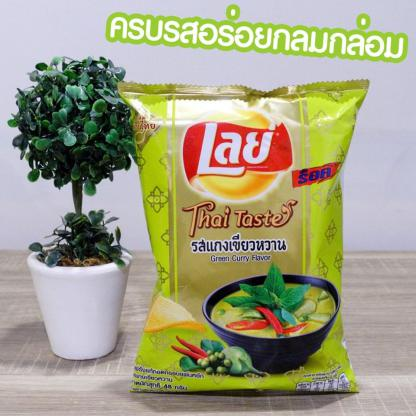potatochip: (113, 79, 368, 398)
